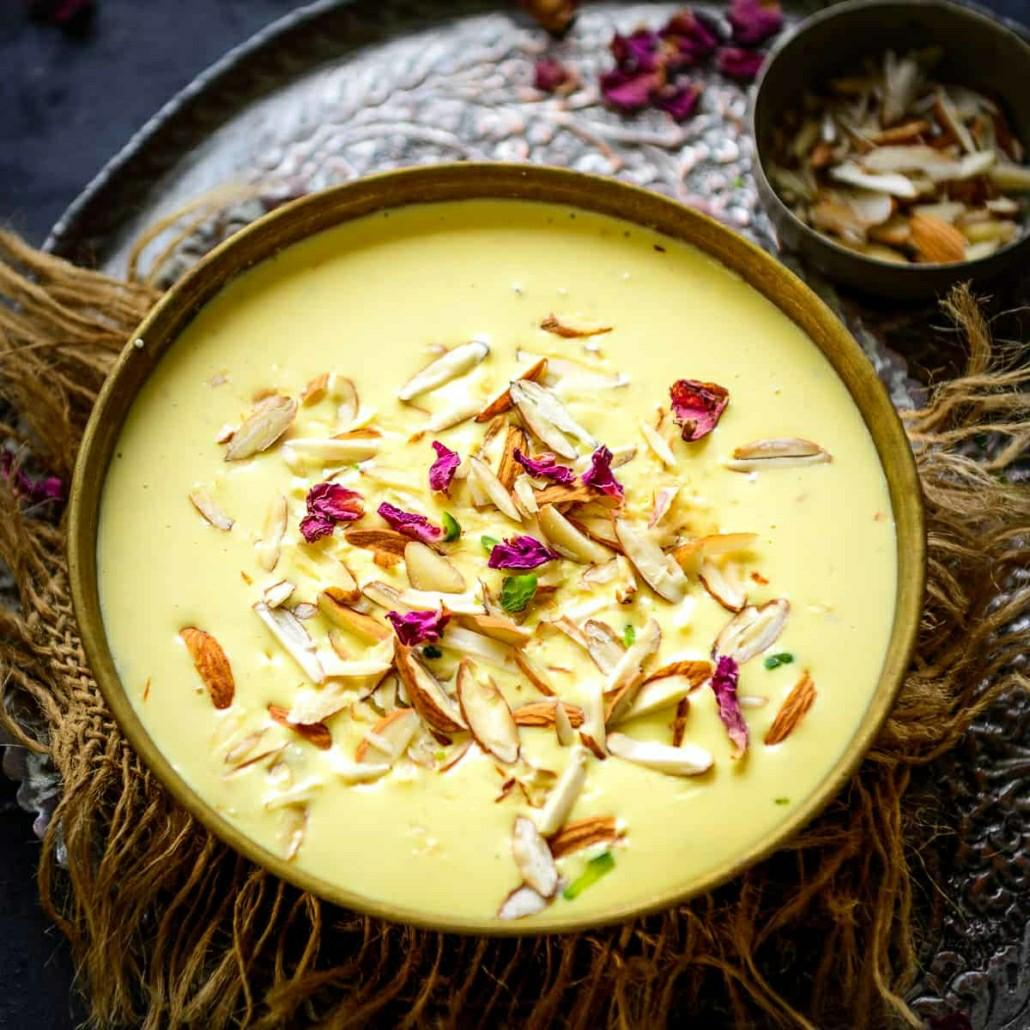Kheer: (102, 198, 898, 918)
